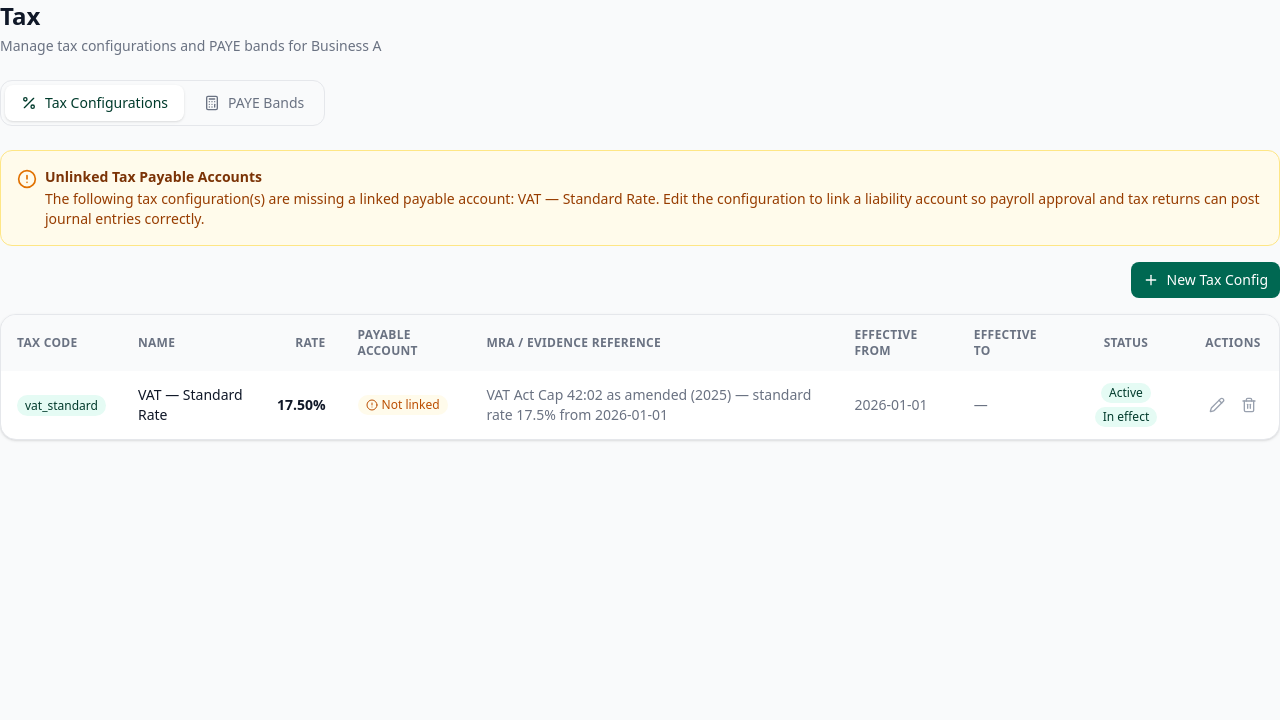
tax configurations — editing a stored period › reports a refused edit as a refusal, with one attempt and no compensating write
Expected: the text "vat_standard" is shown, x1=17 y1=395 x2=106 y2=416
Click the button named "Edit VAT — Standard Rate".
click(1217, 405)  # box x1=1203 y1=391 x2=1231 y2=419
(page scrolled)
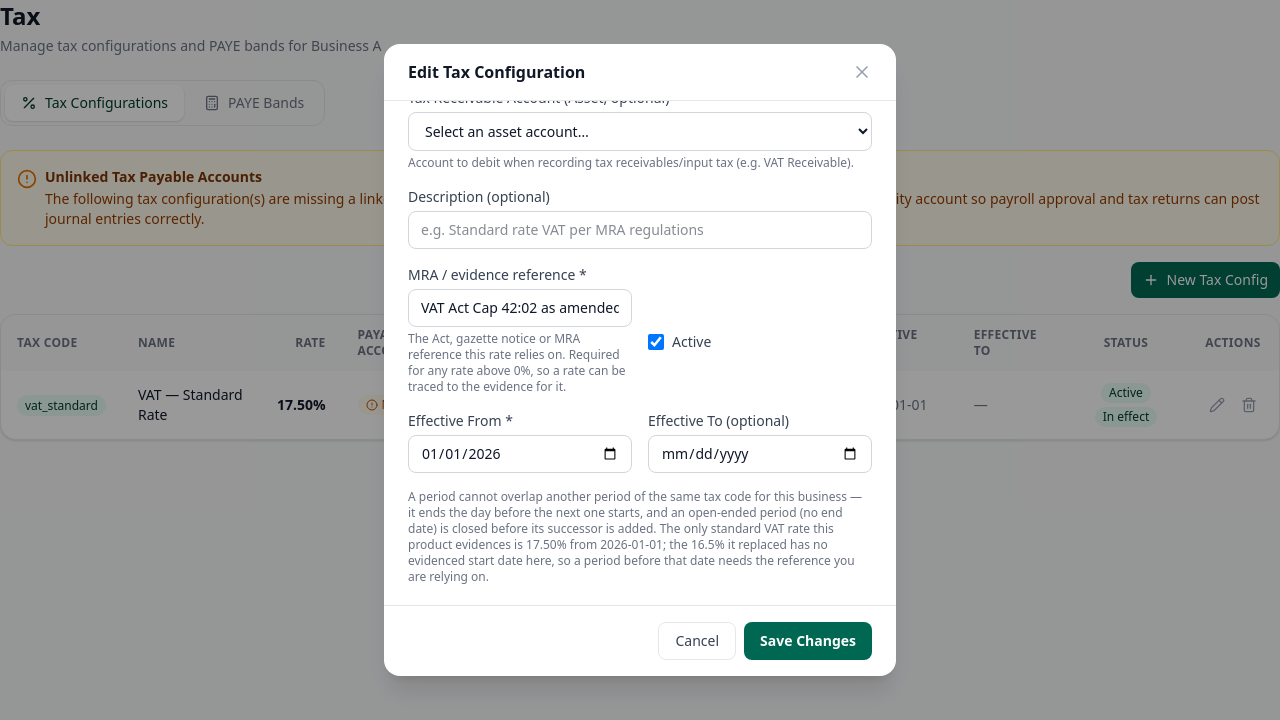
Type "2025-06-01" into the date field labelled "Effective From *".
click(520, 454); type("2025-06-01")  # box x1=408 y1=435 x2=632 y2=473
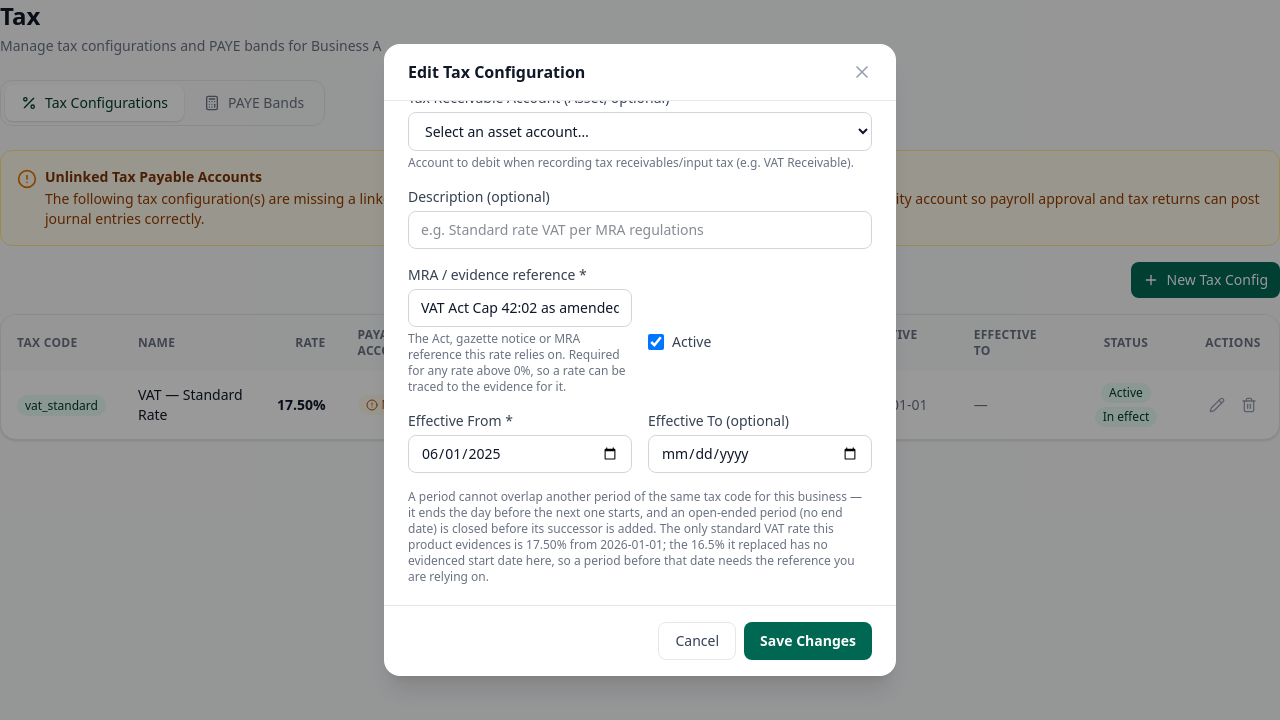
Click the button "Save Changes".
click(808, 641)  # box x1=744 y1=622 x2=872 y2=660
(page scrolled)
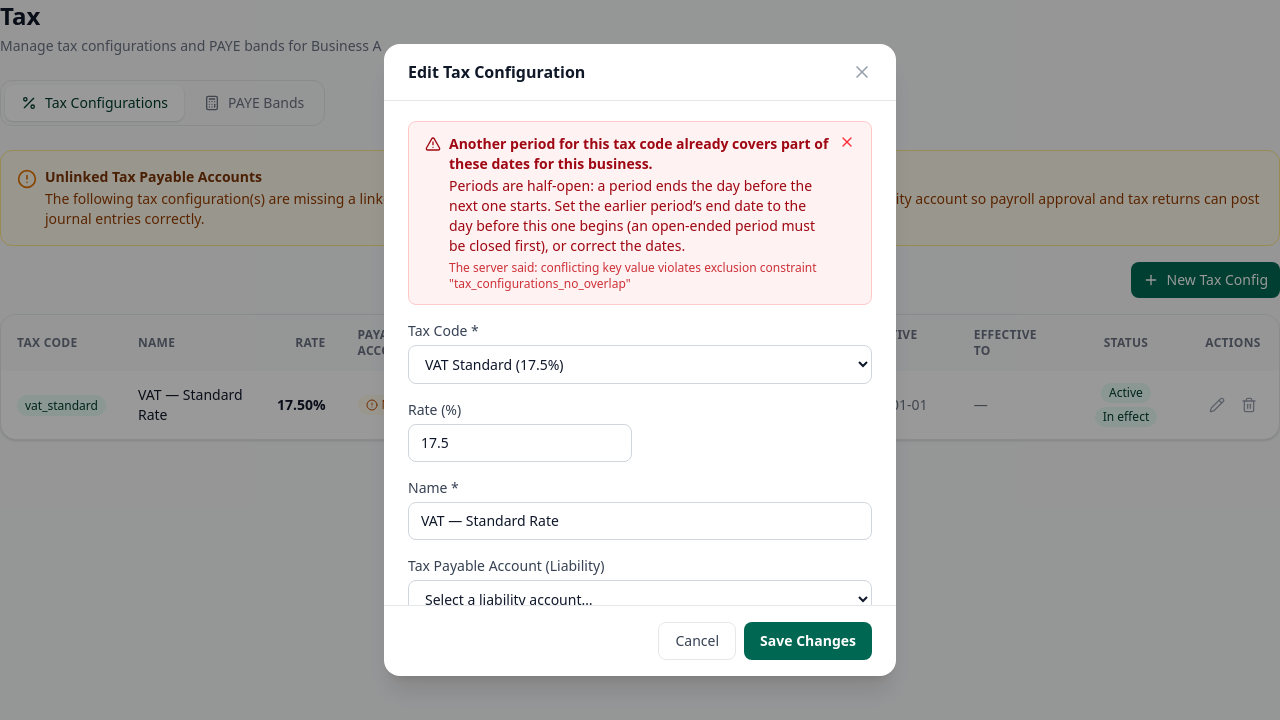
Expected: the text "already covers part of these dates" is shown, x1=449 y1=134 x2=828 y2=173
Expected: the text "tax_configurations_no_overlap" is shown, x1=449 y1=259 x2=817 y2=292
